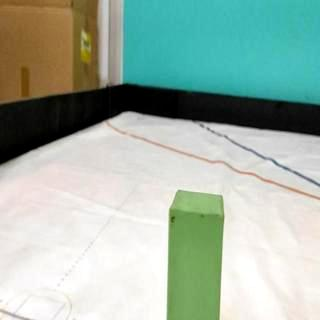greenbox: (166, 187, 224, 320)
